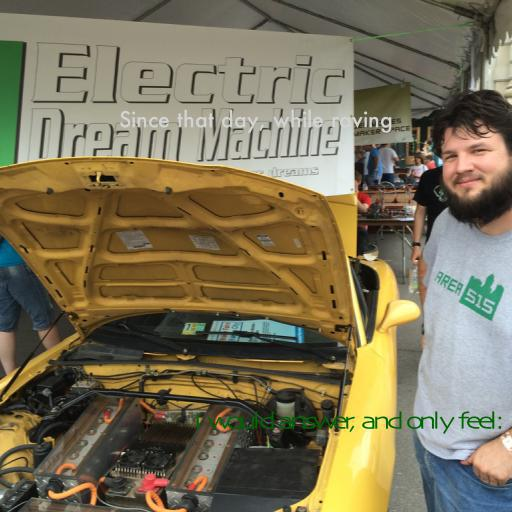Futura: (119, 109, 393, 133)
Skia: (193, 411, 503, 434)
